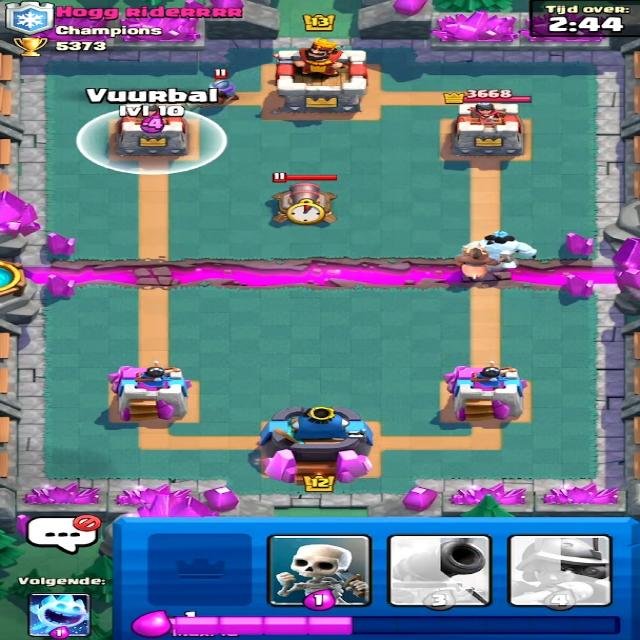Cannon_Card: (386, 532, 500, 608)
Enemy_Musketeer_Troop: (193, 74, 241, 108)
Hog_Rider_Troop: (444, 243, 518, 285)
Ice_Golem_Troop: (476, 231, 549, 272)
Musketeer_Card: (502, 532, 618, 610)
Skeleton_Card: (265, 538, 370, 607)
